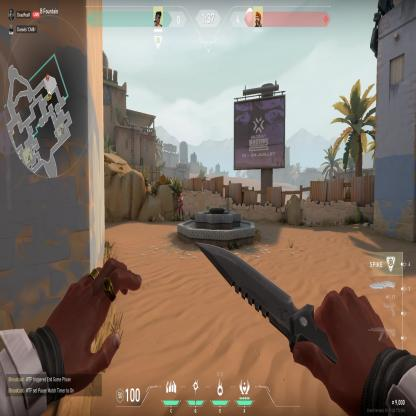enemy: (177, 192, 184, 220)
